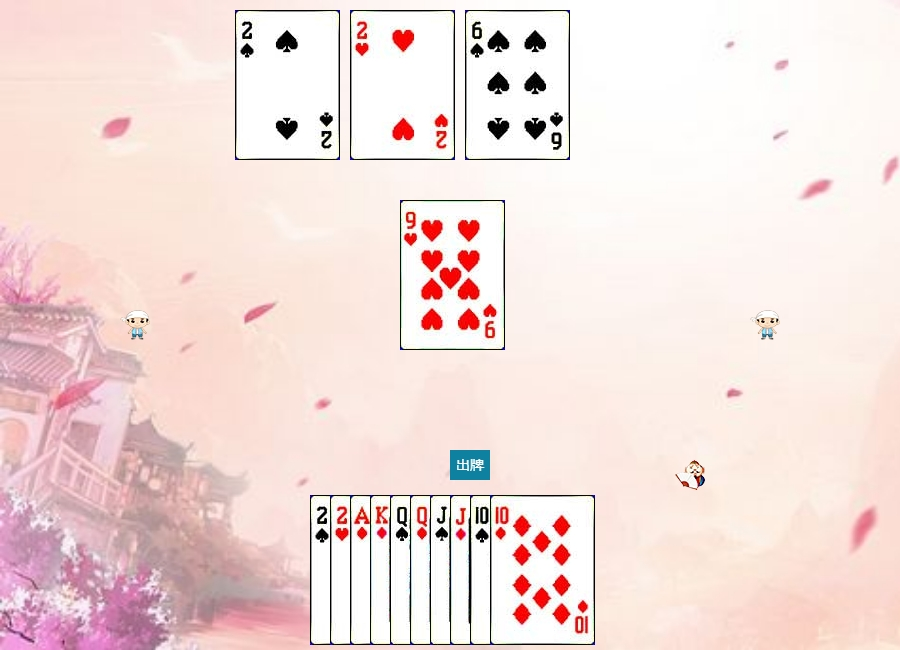10~1: (490, 495, 595, 645)
10~4: (470, 495, 575, 645)
11~1: (450, 495, 555, 645)
11~4: (430, 495, 535, 645)
12~1: (410, 495, 515, 645)
12~4: (390, 495, 495, 645)
13~1: (370, 495, 475, 645)
14~1: (350, 495, 455, 645)
15~3: (350, 10, 455, 160), (330, 495, 435, 645)
15~4: (235, 10, 340, 160), (310, 495, 415, 645)
6~4: (465, 10, 570, 160)
9~3: (400, 200, 505, 350)
